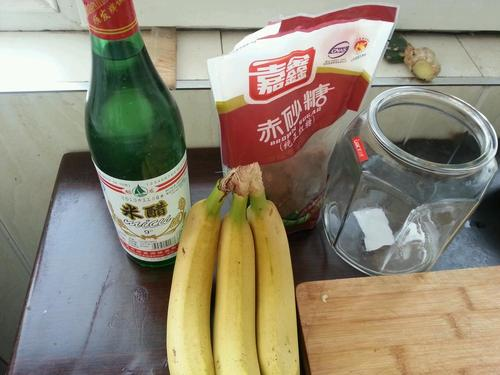Glass: (82, 0, 191, 268)
Other: (166, 169, 236, 375), (246, 161, 299, 375), (212, 165, 261, 375)
